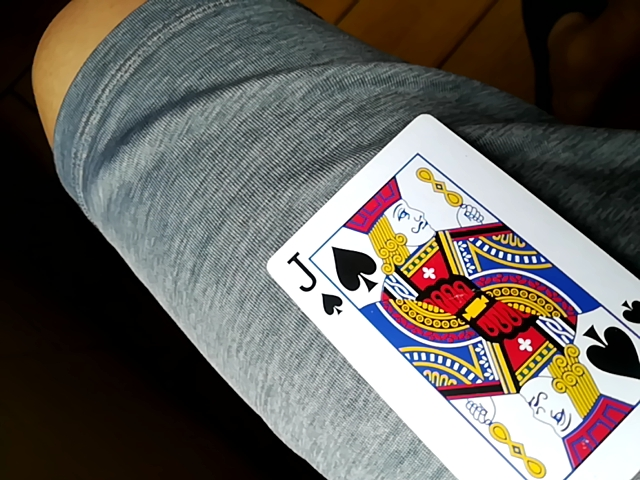ht j: (266, 113, 637, 478)
